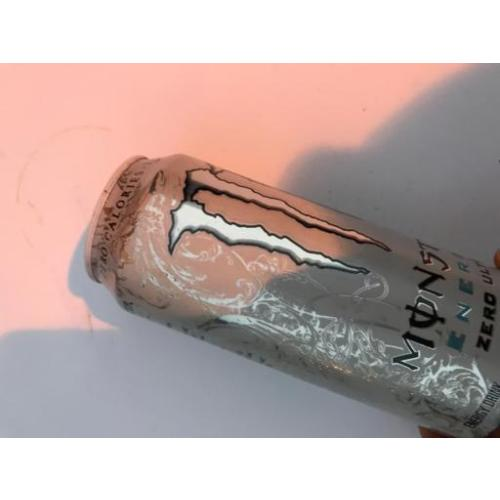metal: (91, 152, 499, 436)
